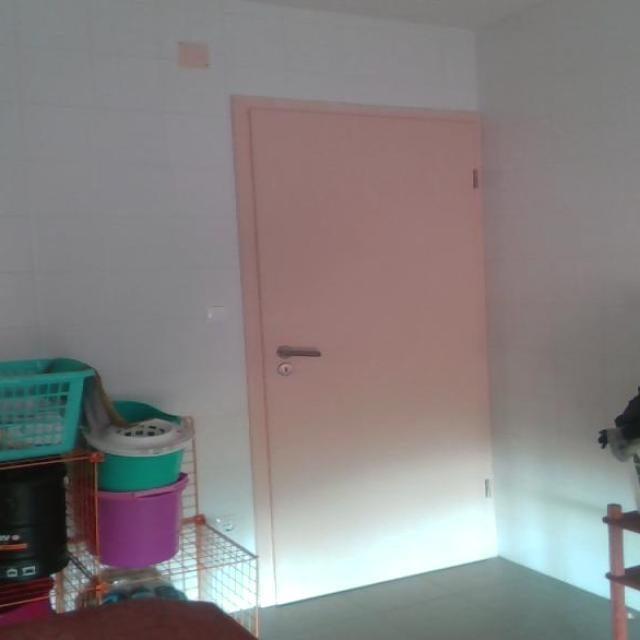door: (233, 95, 499, 606)
